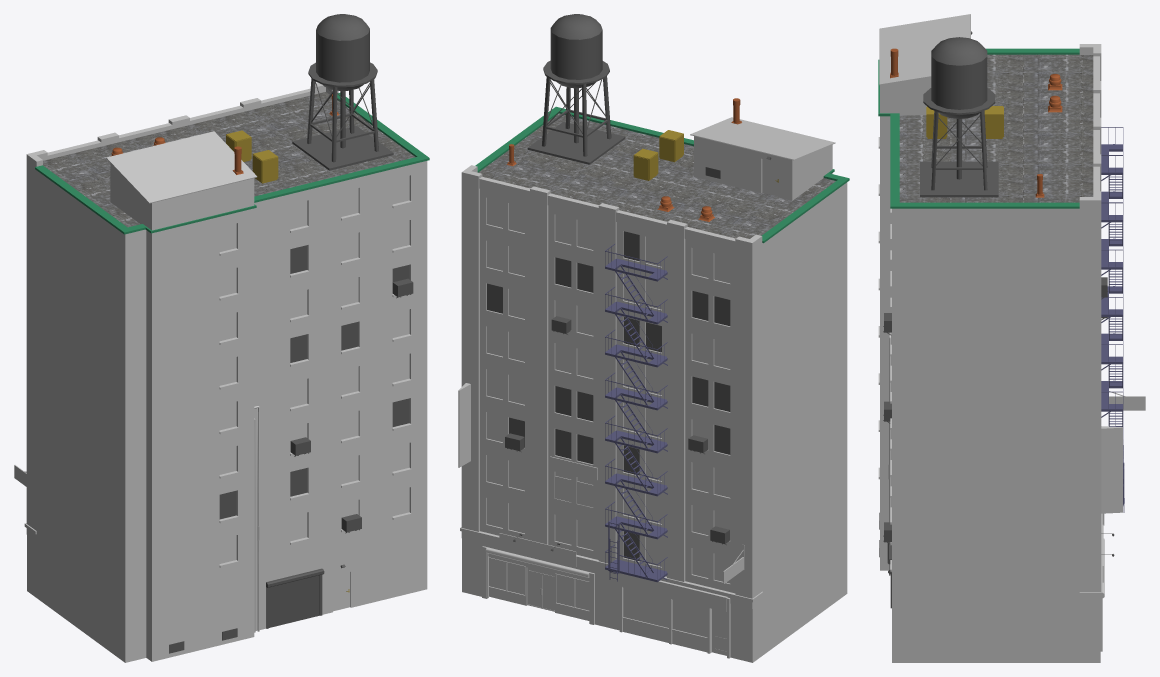
Rendered from mcp_building_19_LOD_0.FBX.
3 renders of one model, left to right at view 1: azimuth 30°, elevation 25°; view 2: azimuth 150°, elevation 25°; view 3: azimuth 270°, elevation 25°, orthographic. The views are drawn at different scales.
Parts seen in each view (by area): view 1: mcp_building_19_walls, mcp_building_19, mcp_building_19_props_01, mcp_building_19_roof, mcp_building_19_metal_roof, mcp_building_19_concrete, mcp_building_19_props_02, mcp_building_19_doors; view 2: mcp_building_19_walls, mcp_building_19, mcp_building_19_props_01, mcp_building_19_roof, mcp_building_19_metal_roof, mcp_building_19_concrete, mcp_building_19_props_02, mcp_building_19_props_03, mcp_building_19_doors; view 3: mcp_building_19_walls, mcp_building_19_roof, mcp_building_19_props_01, mcp_building_19_metal_roof, mcp_building_19, mcp_building_19_concrete, mcp_building_19_props_02, mcp_building_19_props_03.
Boxes of the visible parts, box(x1,y1,x2,y2) form: mcp_building_19_walls: box(24, 83, 427, 662); mcp_building_19: box(14, 175, 411, 632); mcp_building_19_props_01: box(169, 14, 413, 653); mcp_building_19_roof: box(43, 92, 415, 227); mcp_building_19_metal_roof: box(106, 131, 257, 203); mcp_building_19_concrete: box(35, 93, 429, 234); mcp_building_19_props_02: box(226, 130, 349, 592); mcp_building_19_doors: box(333, 572, 350, 611); mcp_building_19_walls: box(460, 136, 847, 662); mcp_building_19: box(458, 198, 744, 658); mcp_building_19_props_01: box(505, 14, 771, 582); mcp_building_19_roof: box(478, 113, 835, 238); mcp_building_19_metal_roof: box(690, 117, 835, 160); mcp_building_19_concrete: box(475, 106, 849, 243); mcp_building_19_props_02: box(633, 130, 778, 182); mcp_building_19_props_03: box(506, 98, 741, 221); mcp_building_19_doors: box(762, 159, 778, 196); mcp_building_19_walls: box(880, 44, 1102, 662); mcp_building_19_roof: box(899, 54, 1093, 202); mcp_building_19_props_01: box(879, 31, 1124, 608); mcp_building_19_metal_roof: box(879, 14, 970, 85); mcp_building_19: box(878, 137, 1145, 651); mcp_building_19_concrete: box(878, 48, 1079, 208); mcp_building_19_props_02: box(926, 106, 1003, 138); mcp_building_19_props_03: box(890, 48, 1062, 197).
Bounding box in the file's own units: 2582 × 4526 × 1846.
